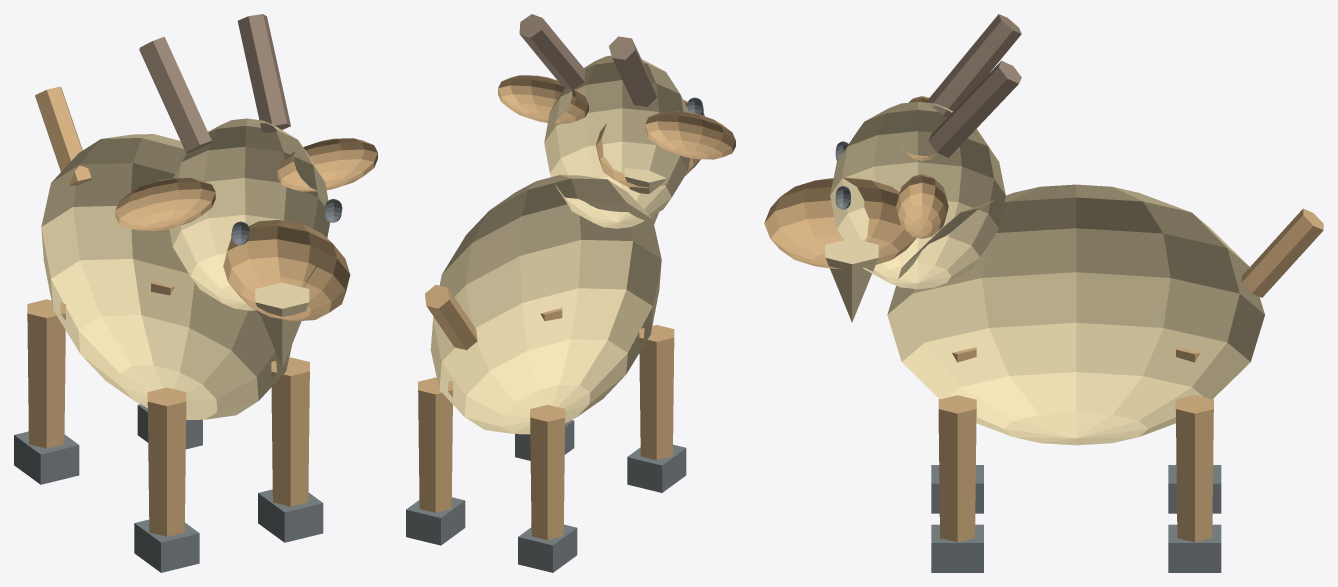
File: harvest-hearth-horned-farm-goat__62.glb
3 views of the same model, side by side, from view 1: azimuth 30°, elevation 25°; view 2: azimuth 150°, elevation 25°; view 3: azimuth 270°, elevation 25° (orthographic). The views are drawn at different scales.
Visible parts, largest first — view 1: harvest-hearth-goat; view 2: harvest-hearth-goat; view 3: harvest-hearth-goat.
Part boxes in pixels (x1,y1,x2,y2): harvest-hearth-goat: (14, 14, 377, 572); harvest-hearth-goat: (406, 14, 735, 572); harvest-hearth-goat: (764, 14, 1323, 572).
Size of the model in its own units: 0.68 by 1.24 by 1.27.
